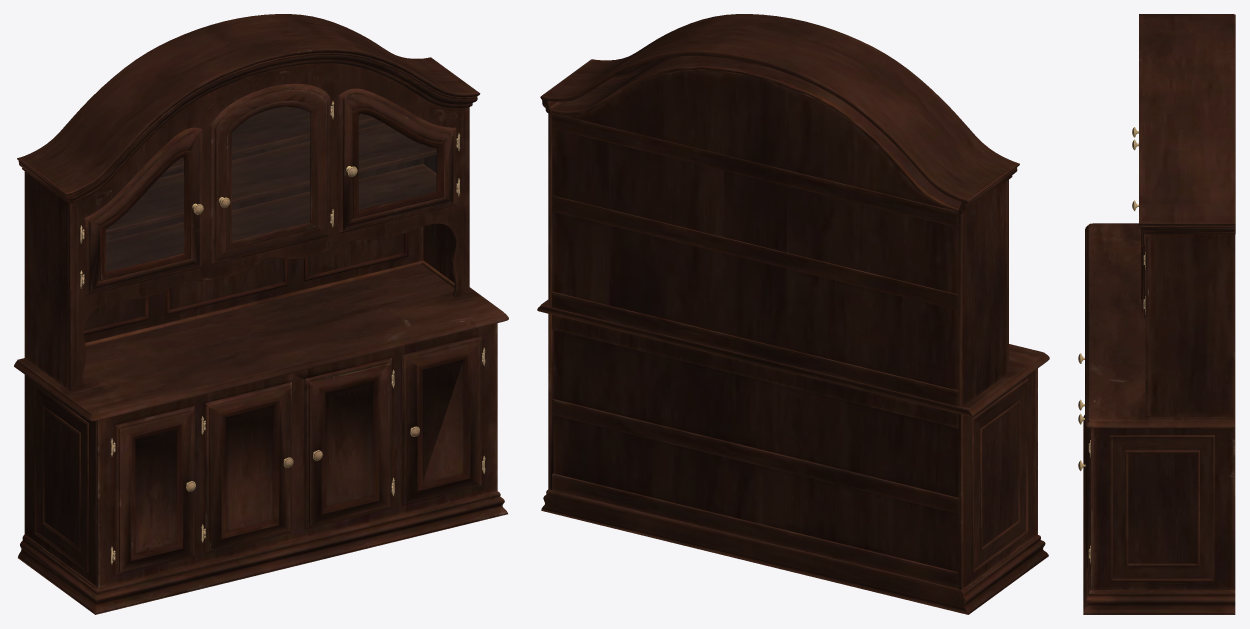
File: vintage-cabinet-runtime-lite.glb
3 renders of one model, left to right at view 1: azimuth 30°, elevation 25°; view 2: azimuth 150°, elevation 25°; view 3: azimuth 270°, elevation 25°, orthographic. The views are drawn at different scales.
Visible parts, largest first — view 1: vintage_cabinet_01_body, vintage_cabinet_01_door_01; view 2: vintage_cabinet_01_body; view 3: vintage_cabinet_01_body.
Part boxes in pixels (left/top/right/bottom): vintage_cabinet_01_body: left=14, top=14, right=508, bottom=614; vintage_cabinet_01_door_01: left=106, top=107, right=436, bottom=271; vintage_cabinet_01_body: left=537, top=14, right=1049, bottom=614; vintage_cabinet_01_body: left=1078, top=14, right=1235, bottom=614.
Size of the model in its own units: 2.02 by 2.24 by 0.6699.
Materials: 3 (2 with a texture image).
